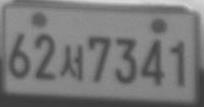1: (168, 39, 192, 87)
2: (34, 32, 55, 80)
3: (114, 38, 138, 83)
4: (141, 38, 166, 86)
6: (8, 32, 30, 78)
7: (88, 35, 111, 81)
서: (59, 43, 85, 81)
